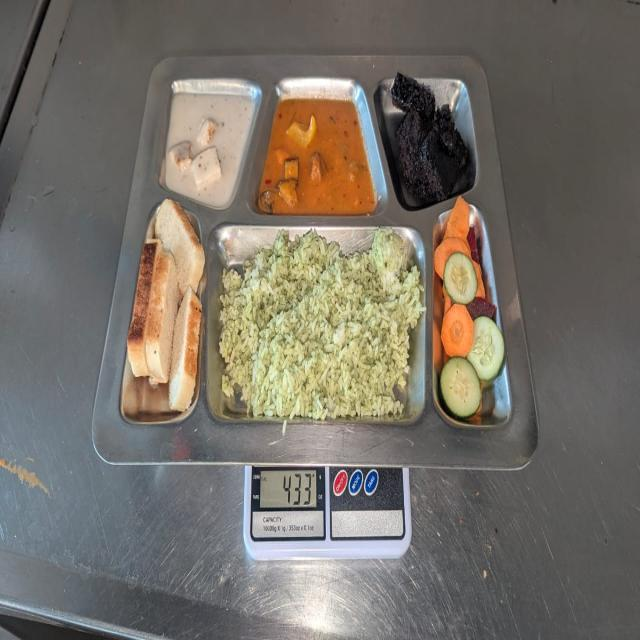Bread: (126, 198, 205, 412)
Cake: (390, 73, 476, 202)
Paneer Curry: (162, 89, 257, 207)
Pulao: (217, 226, 425, 424)
Salad: (431, 196, 506, 427)
